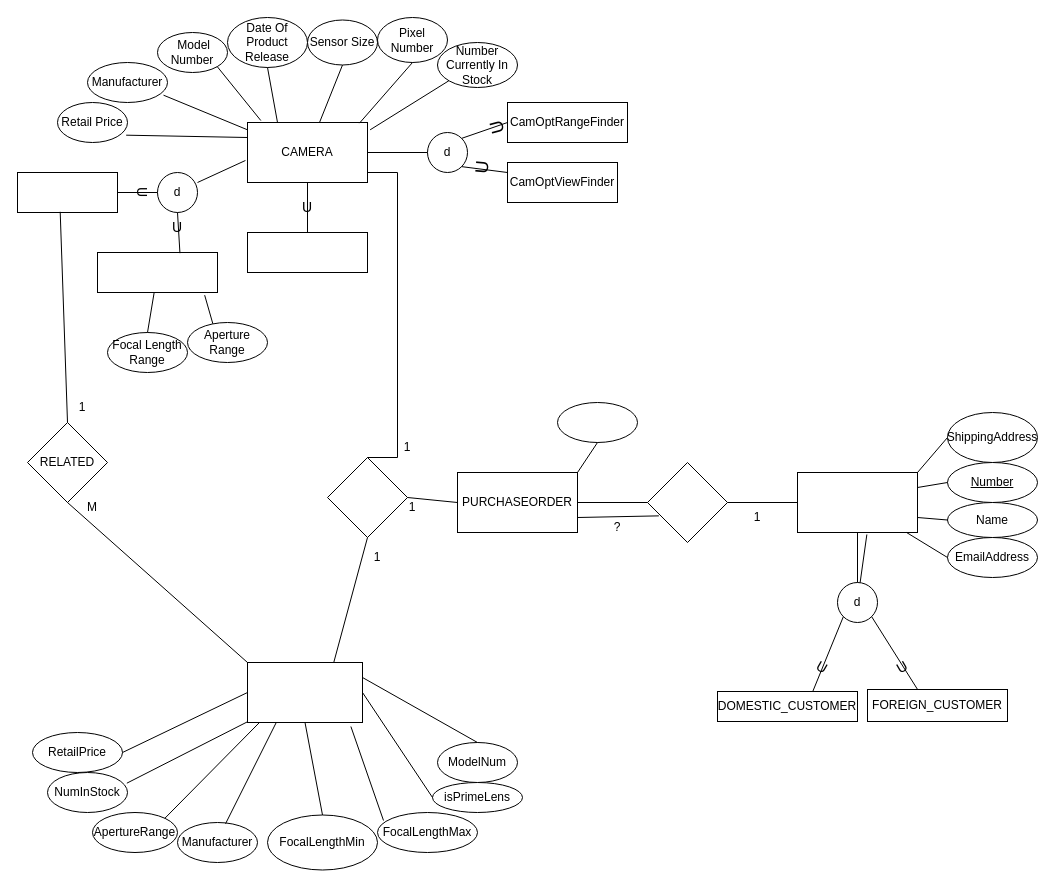
The diagram is 1055 pixels wide and 888 high, and some of its shapes have lost their labels. Here are the shapes that lost their labels. From the top down, the centre of each, then its label:
(67,192): CamReplaceLens
(157,272): CamNonReplaceLens
(307,252): CamElectViewFinder
(597,422): SellingPrice
(367,497): INCLUDES
(687,502): PLACES
(857,502): CUSTOMER
(304,692): LENS
